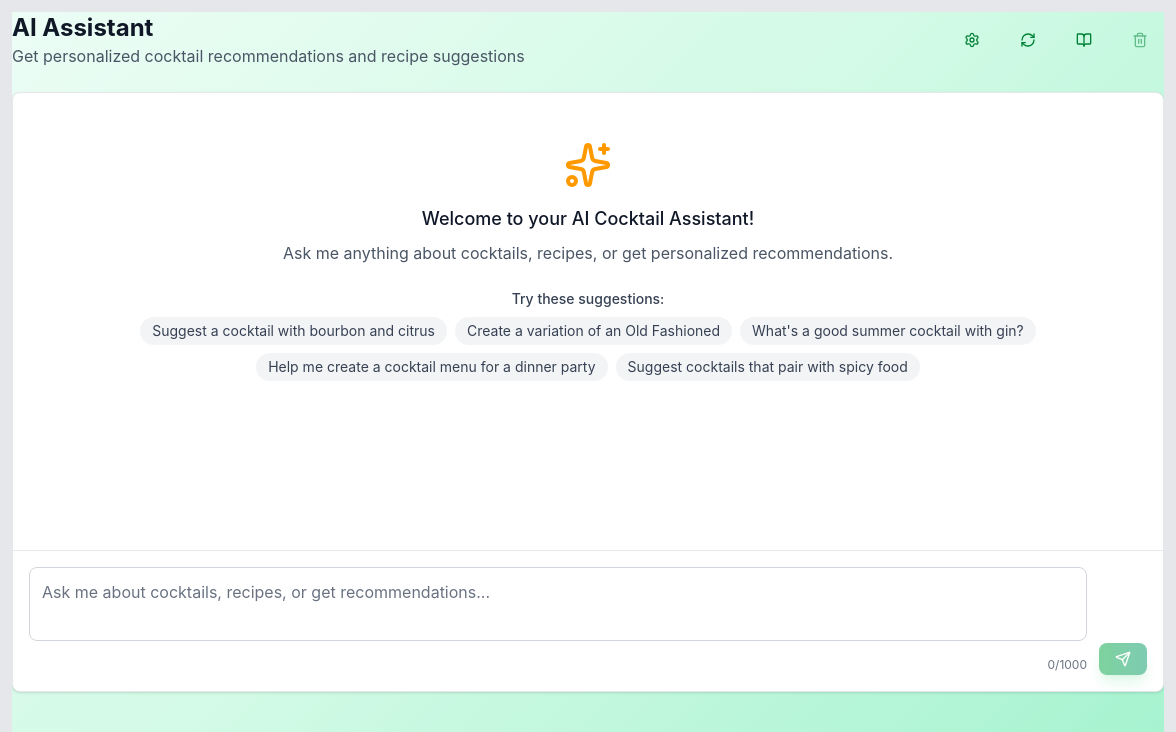
Test: AIAssistant Component › clears chat history
In the text box with placeholder "Ask me about cocktails, recipes, or get recommendations...": (558, 604) [29,567,1087,641], type "Test message"
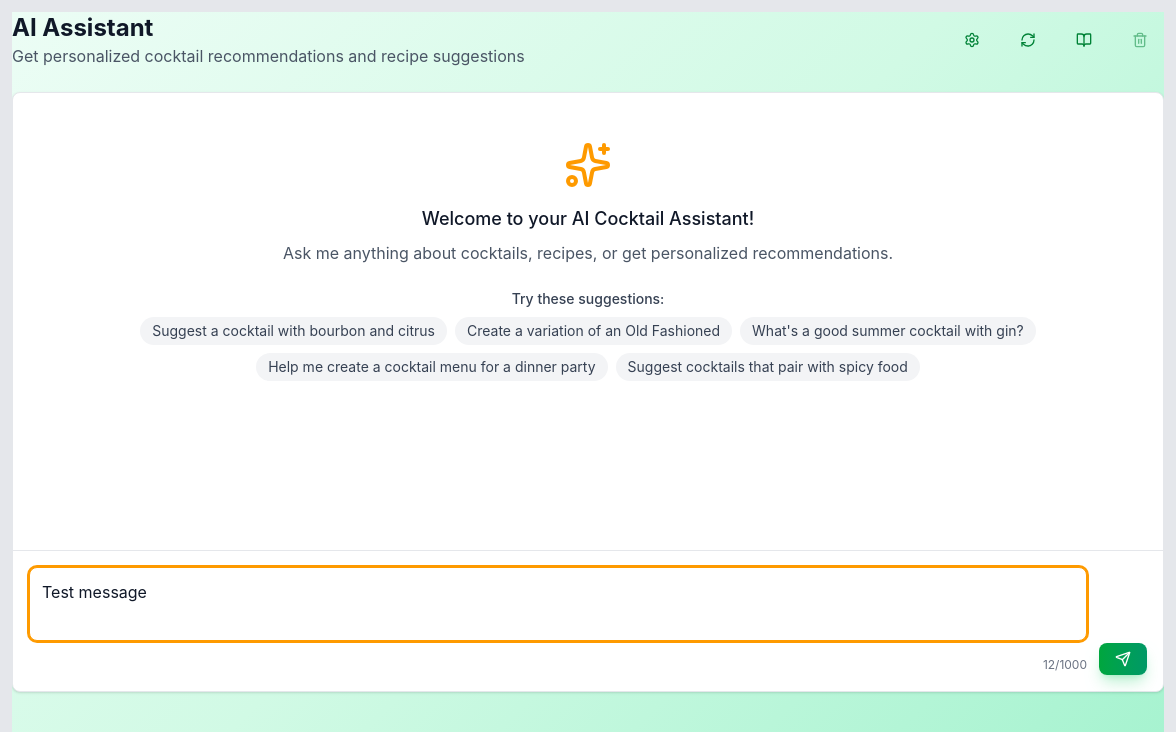
Click the button named "send message": (1123, 659) [1099,643,1147,675]
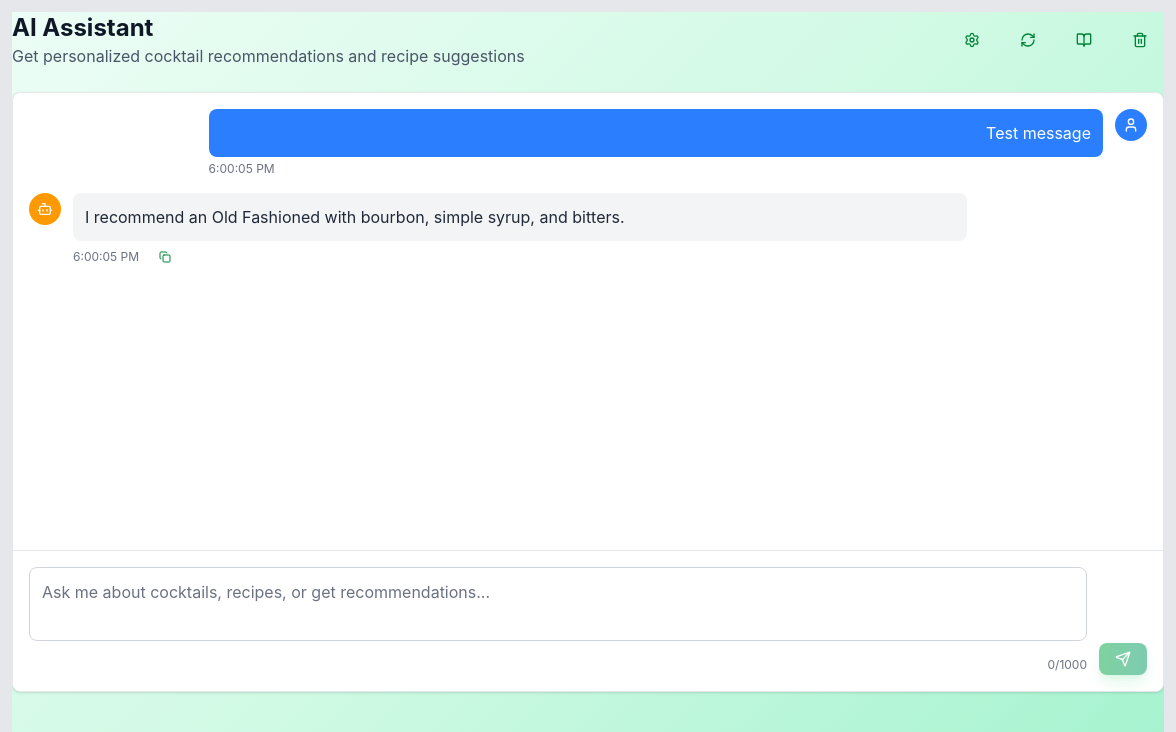
Now the button named "clear chat" is enabled, box [1116,24,1164,56]
